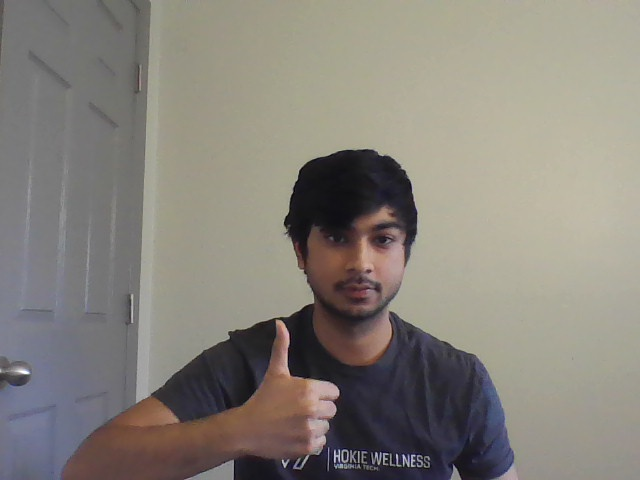confirm: (244, 314, 343, 462)
